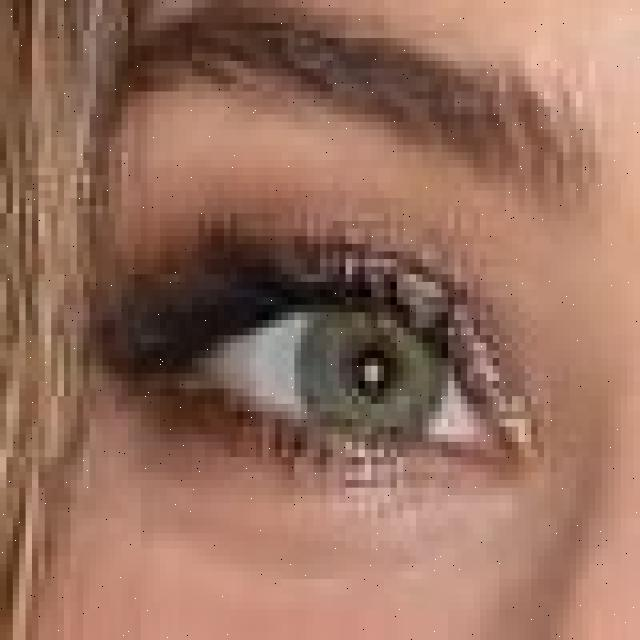Normal: (292, 290, 442, 458)
